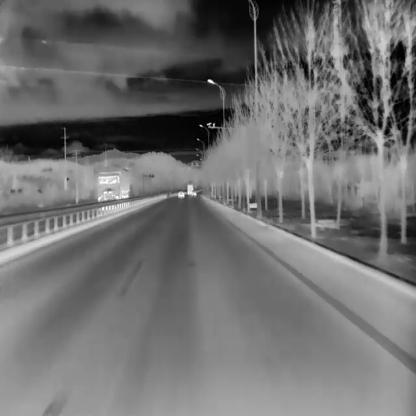car: (96, 166, 131, 206), (186, 184, 193, 195), (177, 190, 184, 198), (191, 189, 197, 195)
